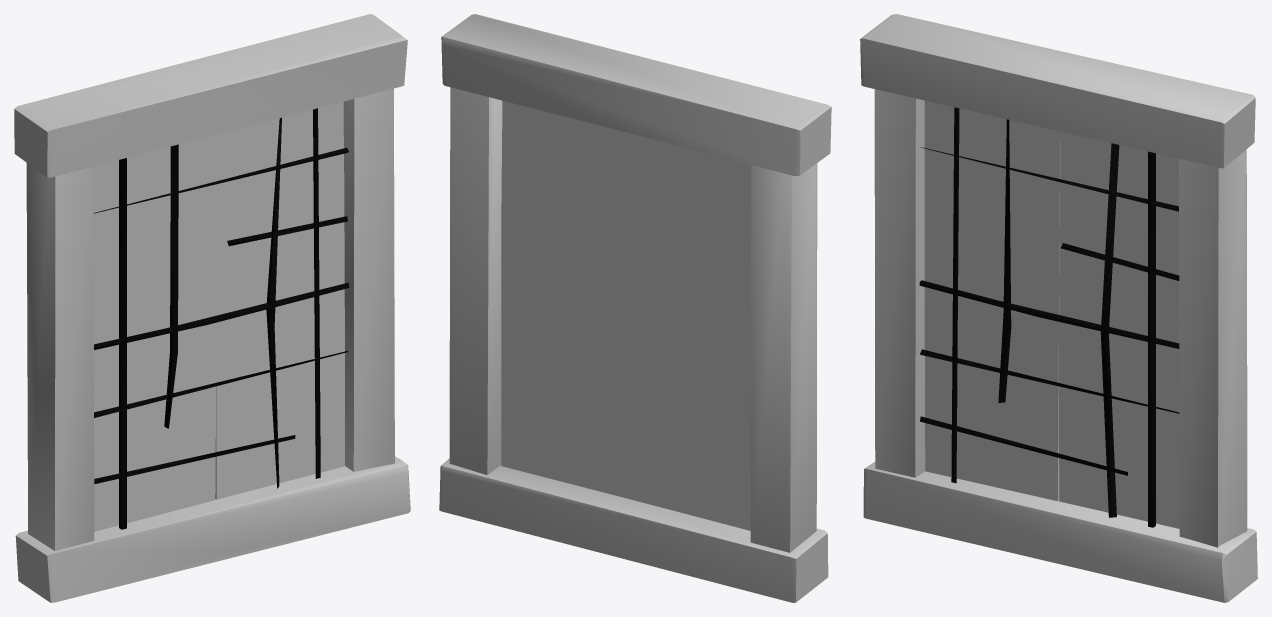
Rendered from SM_Window_04_LOD_02.FBX.
3 renders of one model, left to right at view 1: azimuth 30°, elevation 25°; view 2: azimuth 150°, elevation 25°; view 3: azimuth 330°, elevation 25°, orthographic.
Parts seen in each view (by area): view 1: SM_Window_04, SM_Window_04_Shutter_Right, SM_Window_04_Shutter_Left; view 2: SM_Window_04, SM_Window_04_Shutter_Right, SM_Window_04_Shutter_Left; view 3: SM_Window_04, SM_Window_04_Shutter_Left, SM_Window_04_Shutter_Right.
Part boxes in pixels (bbox=[...]): SM_Window_04: bbox=[14, 14, 410, 602]; SM_Window_04_Shutter_Right: bbox=[215, 101, 344, 499]; SM_Window_04_Shutter_Left: bbox=[93, 134, 217, 531]; SM_Window_04: bbox=[439, 14, 831, 602]; SM_Window_04_Shutter_Right: bbox=[501, 100, 628, 498]; SM_Window_04_Shutter_Left: bbox=[628, 133, 751, 530]; SM_Window_04: bbox=[860, 14, 1257, 602]; SM_Window_04_Shutter_Left: bbox=[924, 100, 1060, 501]; SM_Window_04_Shutter_Right: bbox=[1059, 131, 1179, 528].
Bounding box in the file's own units: 1.06 × 1.33 × 0.1884.
